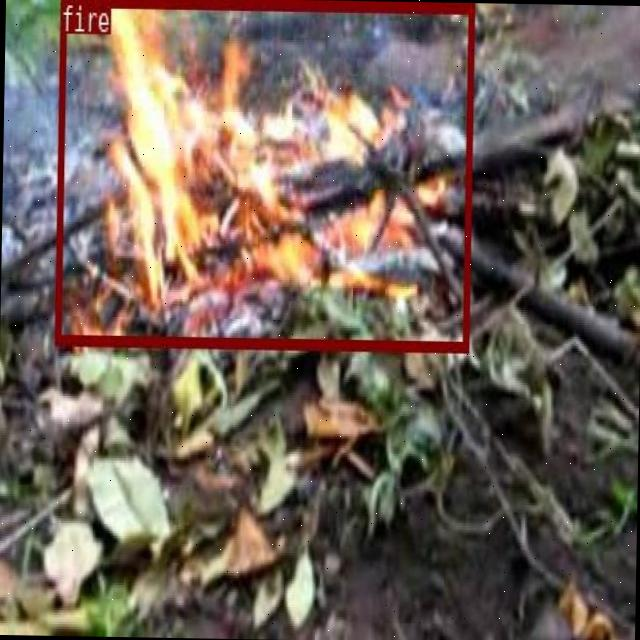fire: (53, 0, 472, 348)
